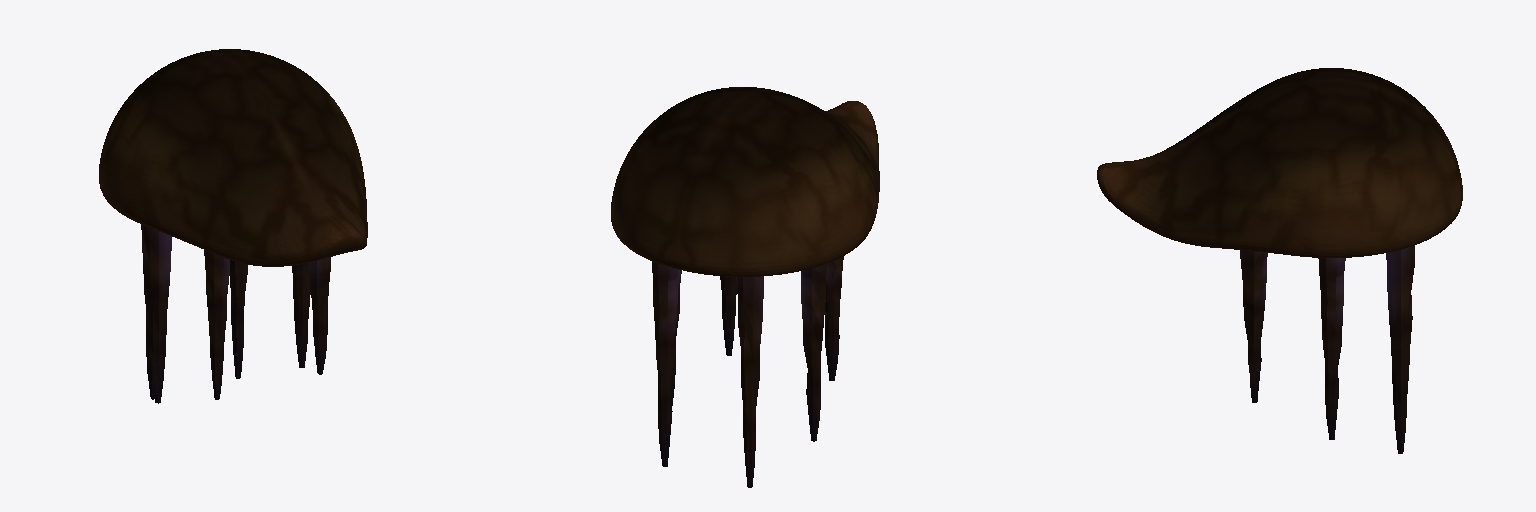
3 views of the same model, side by side, from view 1: azimuth 30°, elevation 25°; view 2: azimuth 150°, elevation 25°; view 3: azimuth 270°, elevation 25° (orthographic).
Visible parts, largest first — view 1: Sphere, Cylinder, Cylinder.002, Cylinder.005_Cylinder.008, Cylinder.004_Cylinder.007, Cylinder.003_Cylinder.006, Cylinder.001; view 2: Sphere, Cylinder.001, Cylinder.004_Cylinder.007, Cylinder, Cylinder.002, Cylinder.005_Cylinder.008; view 3: Sphere, Cylinder.004_Cylinder.007, Cylinder.003_Cylinder.006, Cylinder.005_Cylinder.008.
Part boxes in pixels (bbox=[...]): Sphere: bbox=[99, 49, 367, 266]; Cylinder: bbox=[143, 225, 171, 403]; Cylinder.002: bbox=[204, 250, 229, 399]; Cylinder.005_Cylinder.008: bbox=[309, 257, 330, 374]; Cylinder.004_Cylinder.007: bbox=[230, 260, 247, 378]; Cylinder.003_Cylinder.006: bbox=[292, 263, 310, 367]; Cylinder.001: bbox=[141, 224, 154, 399]; Sphere: bbox=[611, 87, 879, 276]; Cylinder.001: bbox=[736, 276, 763, 487]; Cylinder.004_Cylinder.007: bbox=[652, 262, 677, 466]; Cylinder: bbox=[801, 264, 826, 441]; Cylinder.002: bbox=[825, 256, 843, 380]; Cylinder.005_Cylinder.008: bbox=[720, 276, 736, 355]; Sphere: bbox=[1097, 68, 1462, 257]; Cylinder.004_Cylinder.007: bbox=[1386, 245, 1414, 453]; Cylinder.003_Cylinder.006: bbox=[1318, 258, 1345, 439]; Cylinder.005_Cylinder.008: bbox=[1240, 250, 1267, 402].
Size of the model in its own units: 1.97 by 2.91 by 2.74.
1 materials, 1 textured.